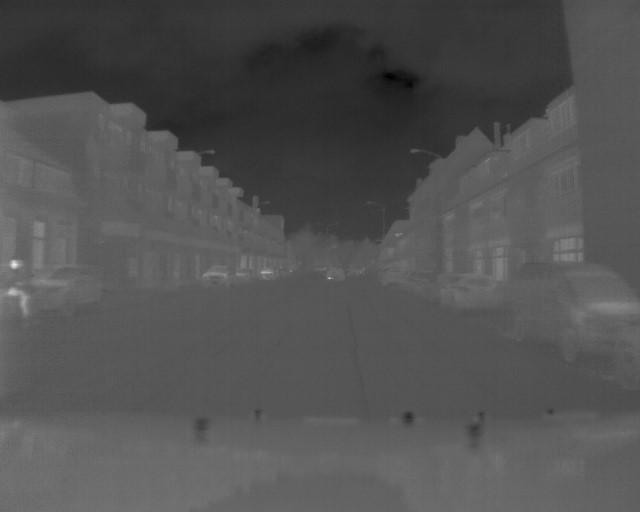car: (507, 260, 640, 361), (36, 264, 105, 311), (441, 272, 496, 308), (198, 262, 235, 287), (325, 266, 348, 283), (236, 264, 255, 283)
